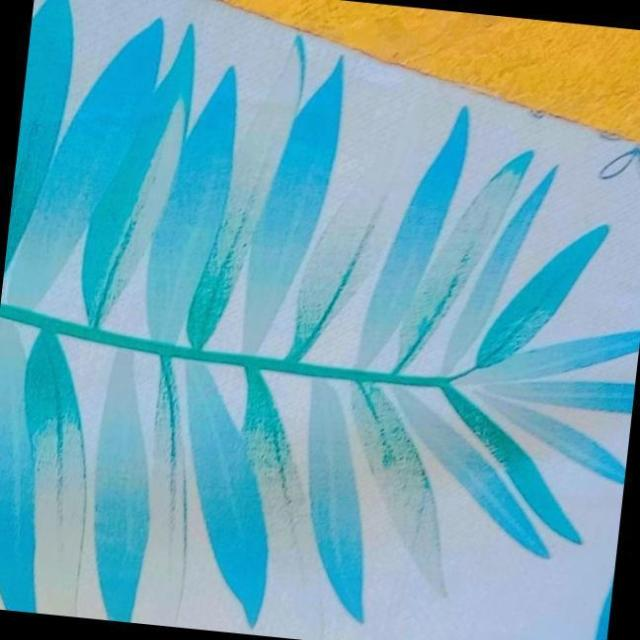color issues: (30, 81, 188, 318), (197, 58, 303, 372), (283, 111, 407, 367), (0, 316, 105, 616), (116, 342, 212, 628), (335, 376, 459, 588), (398, 165, 518, 376), (222, 371, 329, 588), (464, 338, 556, 468)
